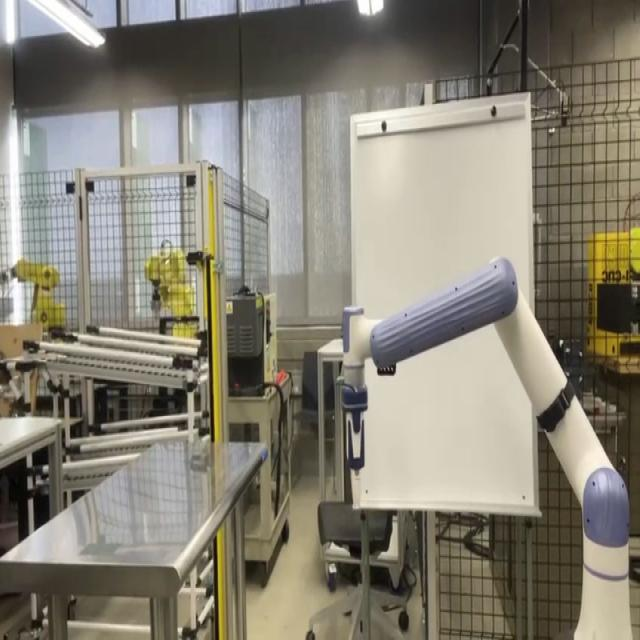robot: (334, 253, 636, 639)
